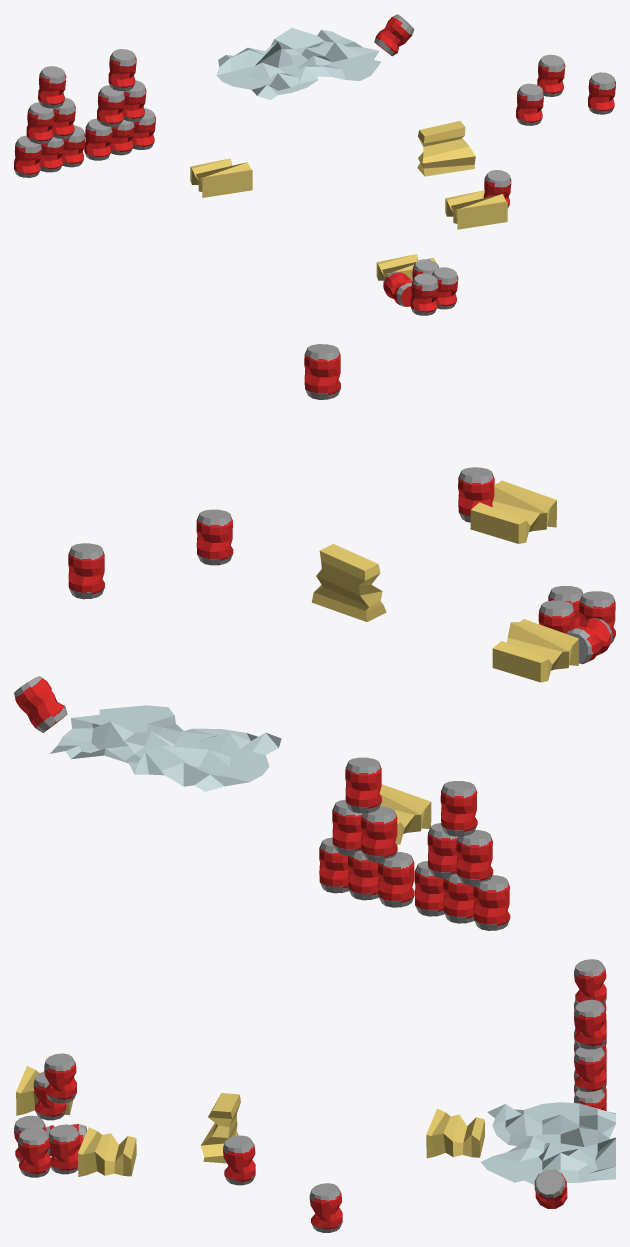
File: trash1.gltf
3 renders of one model, top to bottom at view 1: azimuth 30°, elevation 25°; view 2: azimuth 150°, elevation 25°; view 3: azimuth 270°, elevation 25°, orthographic. The views are drawn at different scales.
Parts seen in each view (by area): view 1: cylinder-col (×20), plane, cuboid-col (×4); view 2: cylinder-col (×20), cuboid-col (×4), plane; view 3: cylinder-col (×12), plane, cuboid-col (×4).
Part boxes in pixels (x1,y1,x2,y2): cylinder-col (×20): (14, 14, 615, 315); plane: (216, 28, 381, 99); cuboid-col (×4): (190, 121, 507, 280); cylinder-col (×20): (14, 344, 615, 930); cuboid-col (×4): (311, 480, 578, 844); plane: (50, 705, 281, 791); cylinder-col (×12): (14, 959, 606, 1232); plane: (481, 1102, 615, 1184); cuboid-col (×4): (16, 1066, 484, 1176).
Bounding box in the file's own units: 0.7044 × 0.2792 × 0.7155.
Materials: 1 (1 with a texture image).
